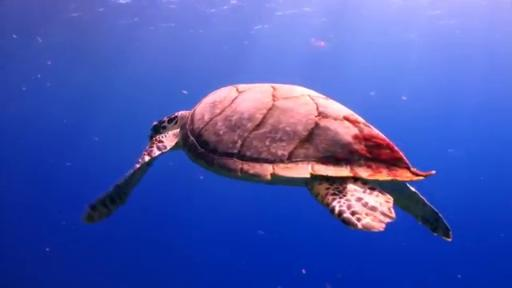Fish: (84, 84, 451, 239)
